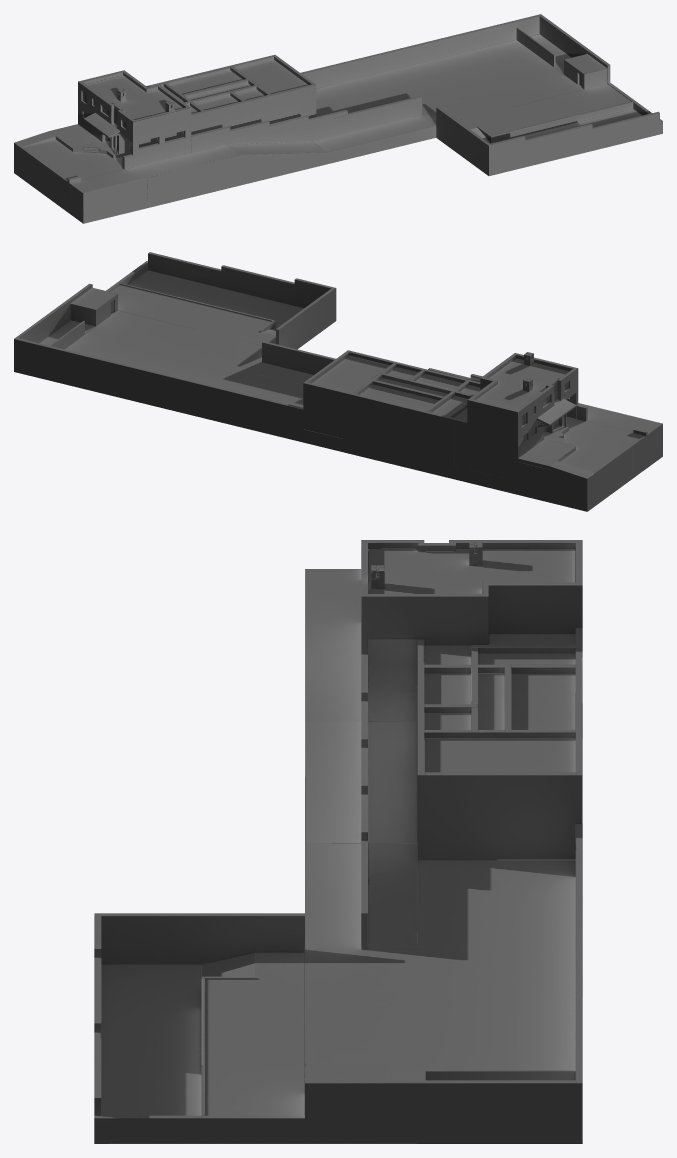
The model's file is RAHM_v10.glb.
3 views of the same model, one above another, from view 1: azimuth 30°, elevation 25°; view 2: azimuth 150°, elevation 25°; view 3: azimuth 270°, elevation 25° (orthographic). The views are drawn at different scales.
Parts seen in each view (by area): view 1: node_0a36bb55_08cc_48e0_9f37_ed1e22866f63_mesh0; view 2: node_0a36bb55_08cc_48e0_9f37_ed1e22866f63_mesh0; view 3: node_0a36bb55_08cc_48e0_9f37_ed1e22866f63_mesh0.
Boxes of the visible parts, x1=… form: node_0a36bb55_08cc_48e0_9f37_ed1e22866f63_mesh0: x1=14, y1=14, x2=662, y2=223; node_0a36bb55_08cc_48e0_9f37_ed1e22866f63_mesh0: x1=14, y1=252, x2=662, y2=511; node_0a36bb55_08cc_48e0_9f37_ed1e22866f63_mesh0: x1=94, y1=540, x2=582, y2=1143.
Size of the model in its own units: 3574 by 531 by 1433.
1 material, 1 textured.
